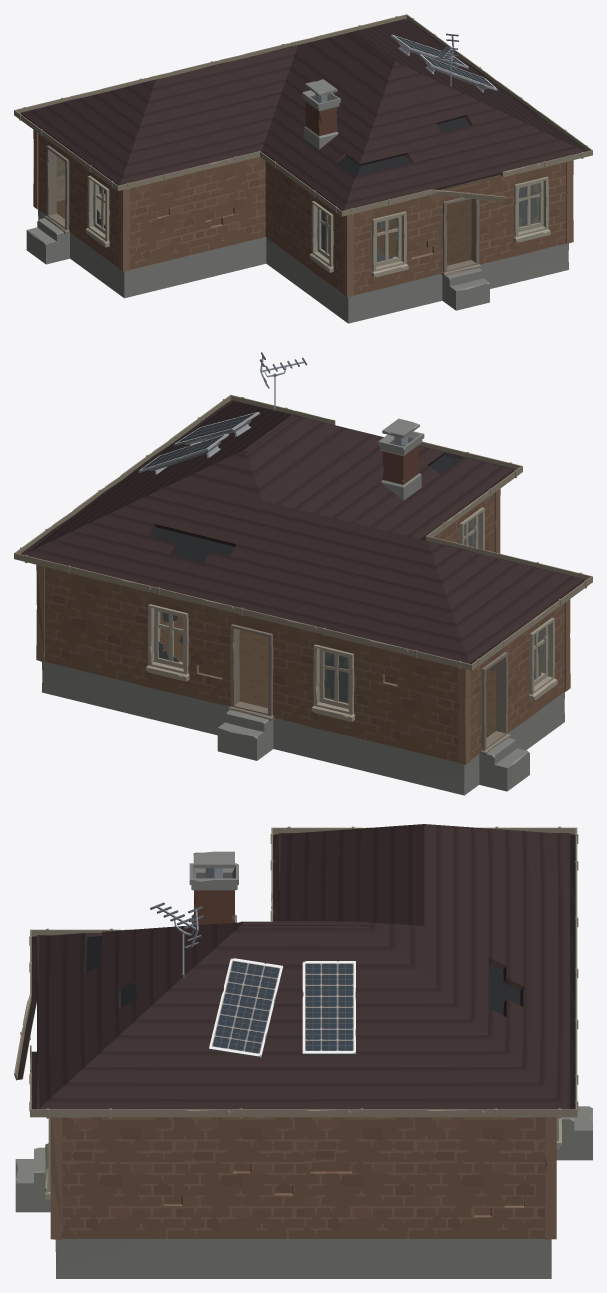
File: Sc_House_04.fbx
3 renders of one model, top to bottom at view 1: azimuth 30°, elevation 25°; view 2: azimuth 150°, elevation 25°; view 3: azimuth 270°, elevation 25°, orthographic. The views are drawn at different scales.
Parts seen in each view (by area): view 1: SM_Bld_House_01, SM_Prop_Roof_Chimney, SM_Prop_Roof_SolarPanel_01; view 2: SM_Bld_House_01, SM_Prop_Roof_Chimney, SM_Prop_Roof_SolarPanel_01; view 3: SM_Bld_House_01, SM_Prop_Roof_SolarPanel_01, SM_Prop_Roof_Chimney, SM_Prop_Roof_Satellite_01.
Boxes of the visible parts, x1,y1,x2,y2 form: SM_Bld_House_01: (14, 14, 592, 323); SM_Prop_Roof_Chimney: (301, 79, 340, 149); SM_Prop_Roof_SolarPanel_01: (391, 34, 497, 92); SM_Bld_House_01: (14, 394, 592, 795); SM_Prop_Roof_Chimney: (378, 418, 424, 500); SM_Prop_Roof_SolarPanel_01: (138, 412, 259, 474); SM_Bld_House_01: (14, 824, 592, 1278); SM_Prop_Roof_SolarPanel_01: (209, 958, 355, 1058); SM_Prop_Roof_Chimney: (189, 851, 238, 924); SM_Prop_Roof_Satellite_01: (150, 902, 203, 978).
Bounding box in the file's own units: 1417 × 732 × 1199.
Materials: 3 (3 with a texture image).
